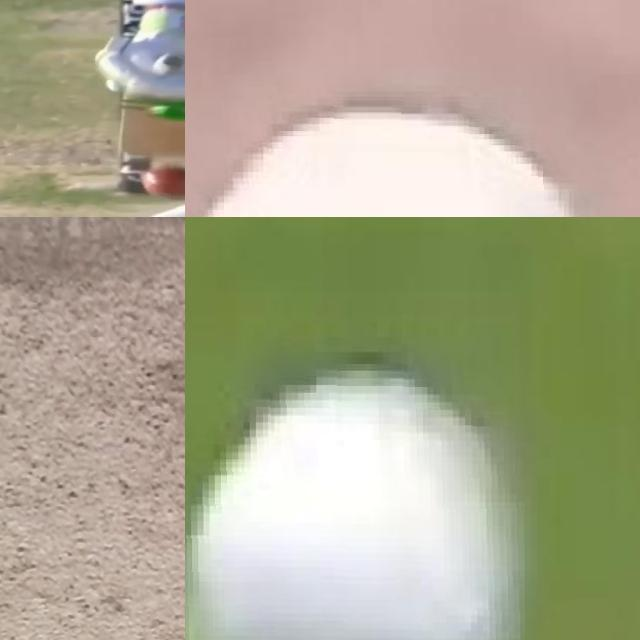Cricket ball: (185, 352, 525, 640), (185, 95, 628, 217), (136, 162, 185, 200)
